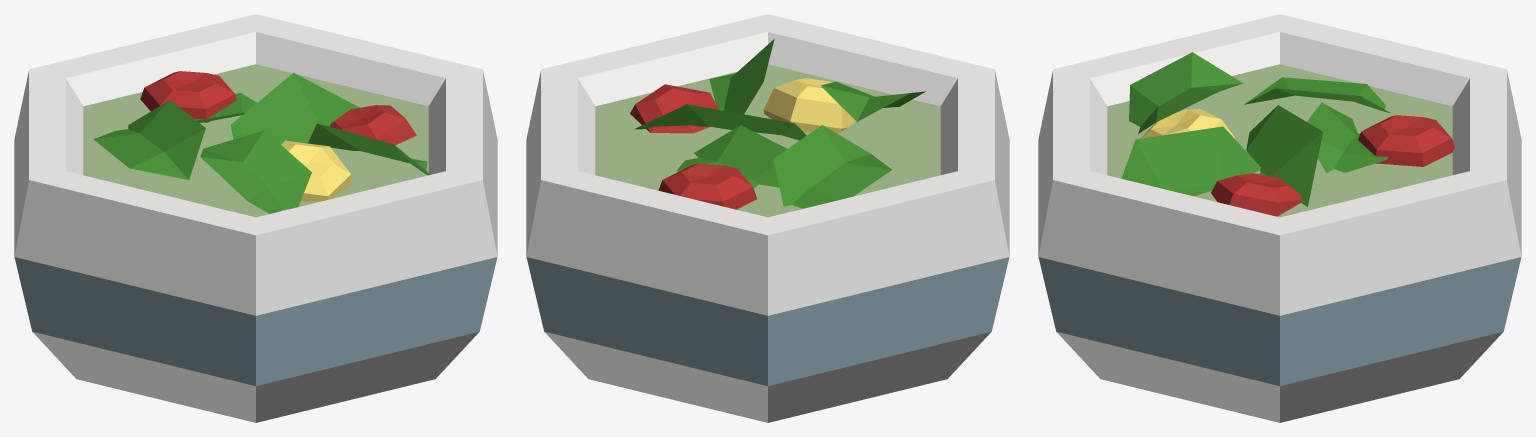
The model's file is Bowl_of_food.fbx.
3 renders of one model, left to right at view 1: azimuth 30°, elevation 25°; view 2: azimuth 150°, elevation 25°; view 3: azimuth 270°, elevation 25°, orthographic.
Visible parts, largest first — view 1: Bowl_of_food; view 2: Bowl_of_food; view 3: Bowl_of_food.
Part boxes in pixels (x1,y1,x2,y2): Bowl_of_food: (14,14,497,422); Bowl_of_food: (526,14,1009,422); Bowl_of_food: (1038,14,1521,422).
Bounding box in the file's own units: 35.52 × 30.76 × 16.49.
